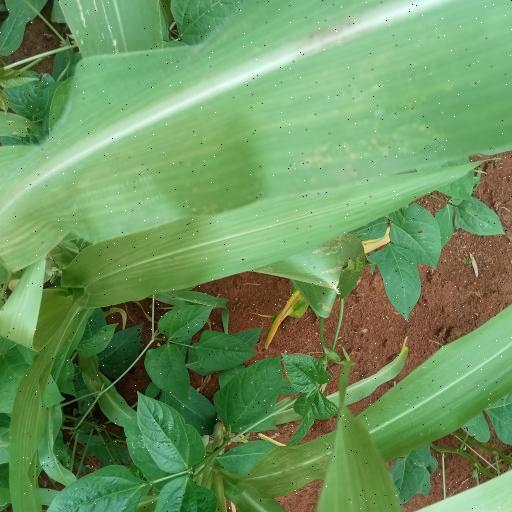Corn_Brown_Spots: (7, 0, 512, 284)
